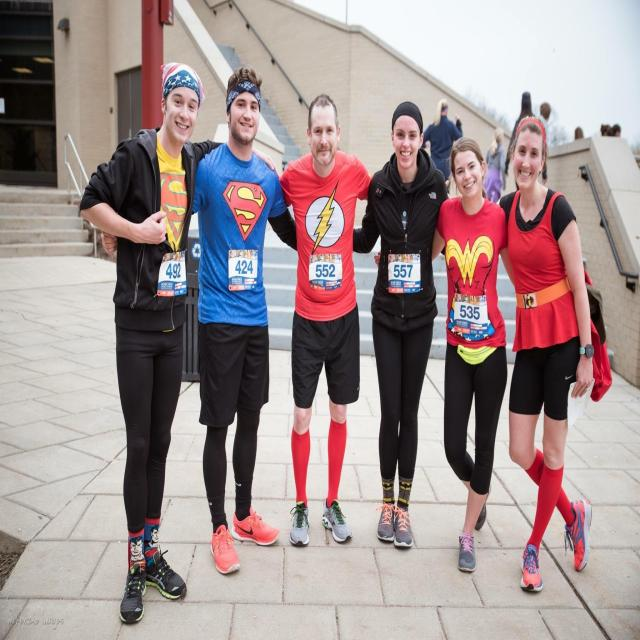body: (70, 59, 282, 631), (276, 94, 452, 550), (495, 113, 617, 599), (189, 69, 299, 575), (346, 98, 457, 555), (430, 134, 516, 572), (531, 89, 630, 177), (421, 98, 464, 195), (504, 90, 537, 192), (482, 126, 507, 204)
